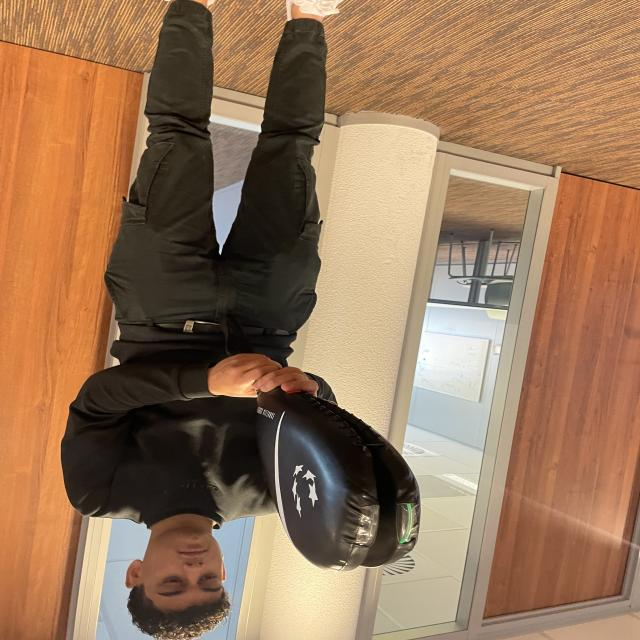paddle: (275, 401, 422, 576)
trigger: (397, 501, 420, 551)
